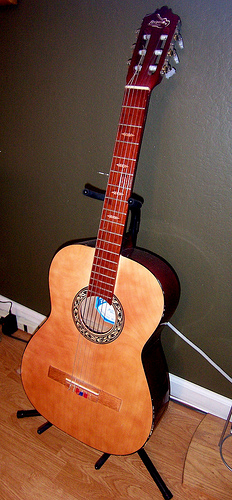guitar: (21, 4, 199, 457)
